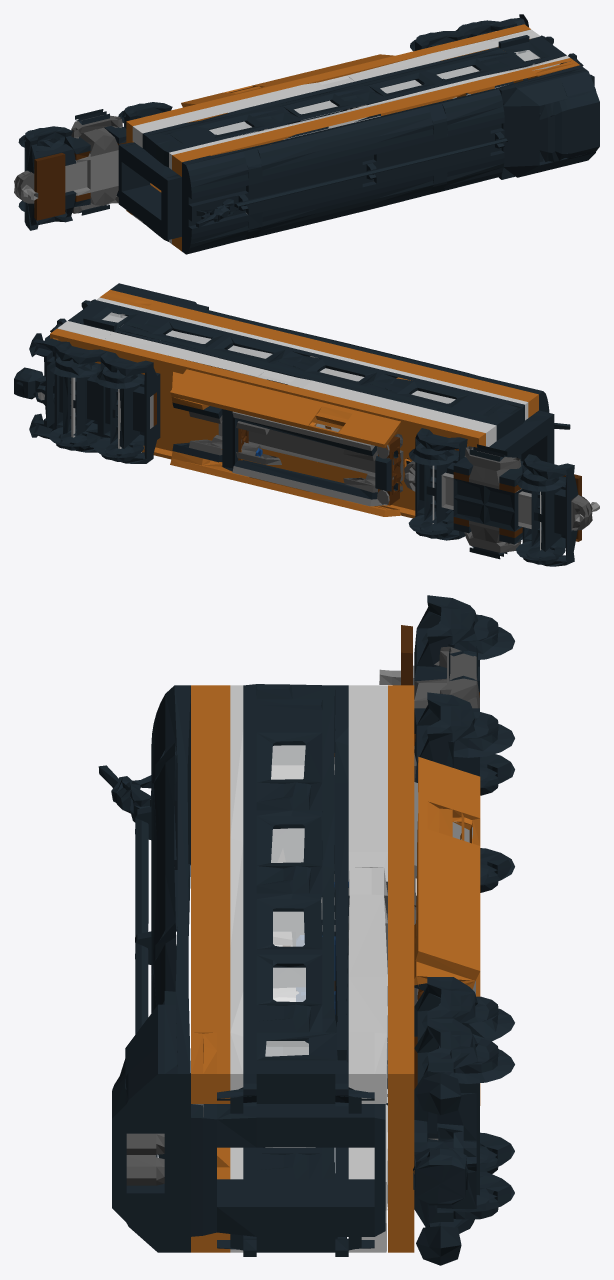
File: coach-1.glb
3 views of the same model, one above another, from view 1: azimuth 30°, elevation 25°; view 2: azimuth 150°, elevation 25°; view 3: azimuth 270°, elevation 25° (orthographic). The views are drawn at different scales.
Bounding box in the file's own units: 295 × 53.6 × 101.
